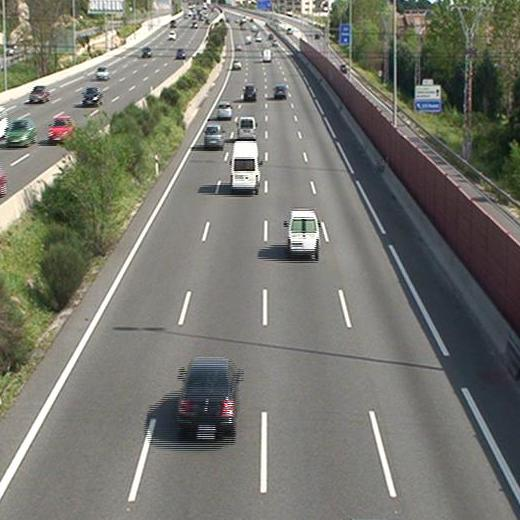car: (176, 358, 244, 439), (202, 124, 224, 148), (217, 99, 233, 119), (241, 85, 258, 102), (272, 84, 288, 99), (232, 58, 244, 71)
van: (223, 142, 260, 192), (284, 211, 320, 258), (236, 117, 258, 140), (261, 48, 271, 62)
